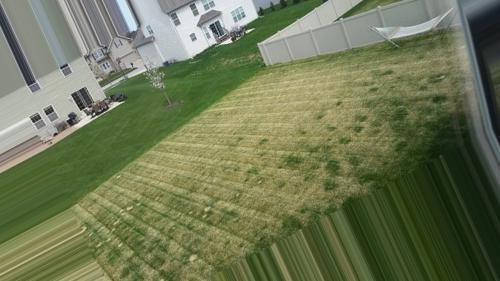patch: (168, 140, 245, 176), (266, 88, 316, 126), (206, 109, 262, 136)
